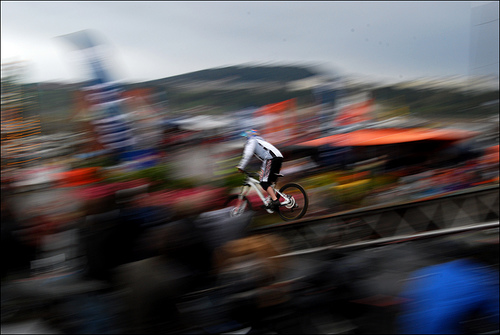helmet: (241, 129, 259, 140)
